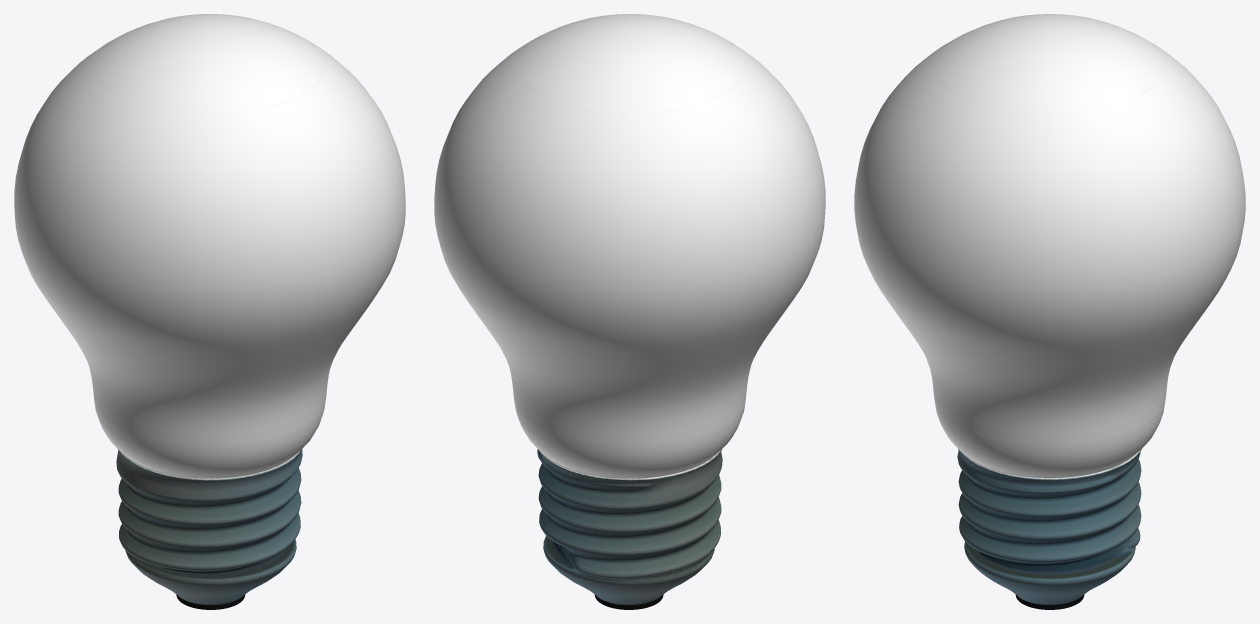
File: lightBulbWhite.fbx
3 views of the same model, side by side, from view 1: azimuth 30°, elevation 25°; view 2: azimuth 150°, elevation 25°; view 3: azimuth 270°, elevation 25° (orthographic).
Parts seen in each view (by area): view 1: node_id29; view 2: node_id29; view 3: node_id29.
Part boxes in pixels (left/top/right/bottom): node_id29: left=14, top=14, right=405, bottom=609; node_id29: left=434, top=14, right=825, bottom=609; node_id29: left=854, top=14, right=1245, bottom=609.
Size of the model in its own units: 0.3223 by 0.512 by 0.3223.
Materials: 1 (1 with a texture image).
